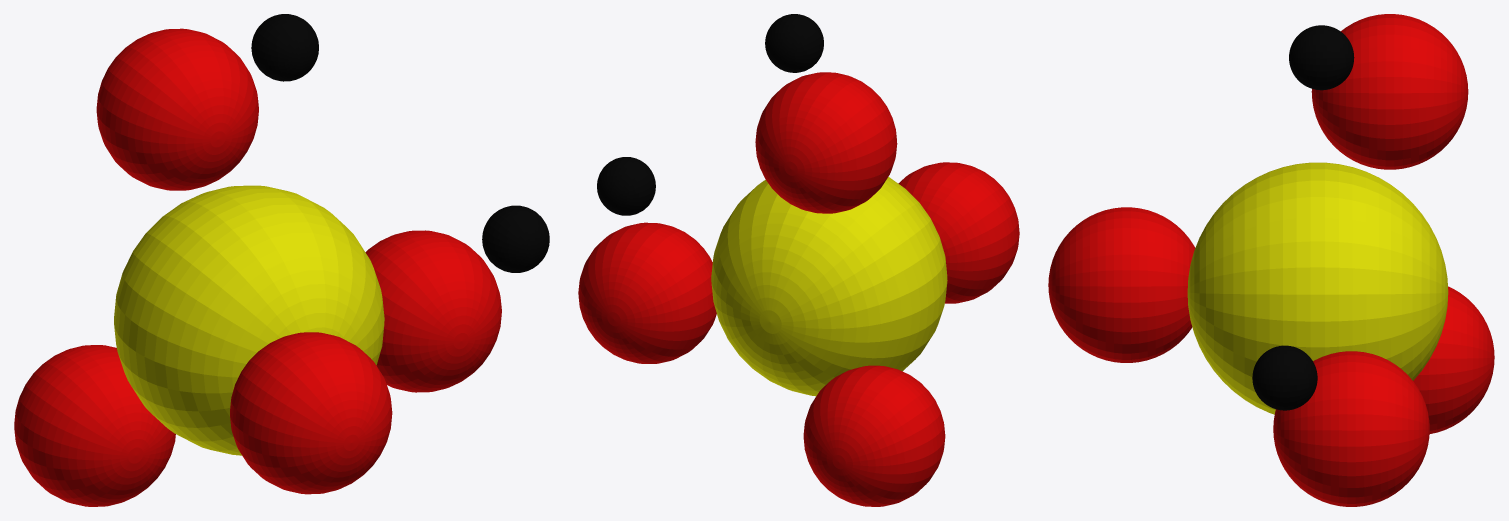
The model's file is Sulfuric Acid.glb.
3 views of the same model, side by side, from view 1: azimuth 30°, elevation 25°; view 2: azimuth 150°, elevation 25°; view 3: azimuth 270°, elevation 25° (orthographic). The views are drawn at different scales.
Visible parts, largest first — view 1: world; view 2: world; view 3: world.
Boxes of the visible parts, x1,y1,x2,y2 form: world: (14, 14, 549, 506); world: (578, 14, 1019, 506); world: (1048, 14, 1494, 506).
Size of the model in its own units: 3.85 by 3.94 by 3.42.
